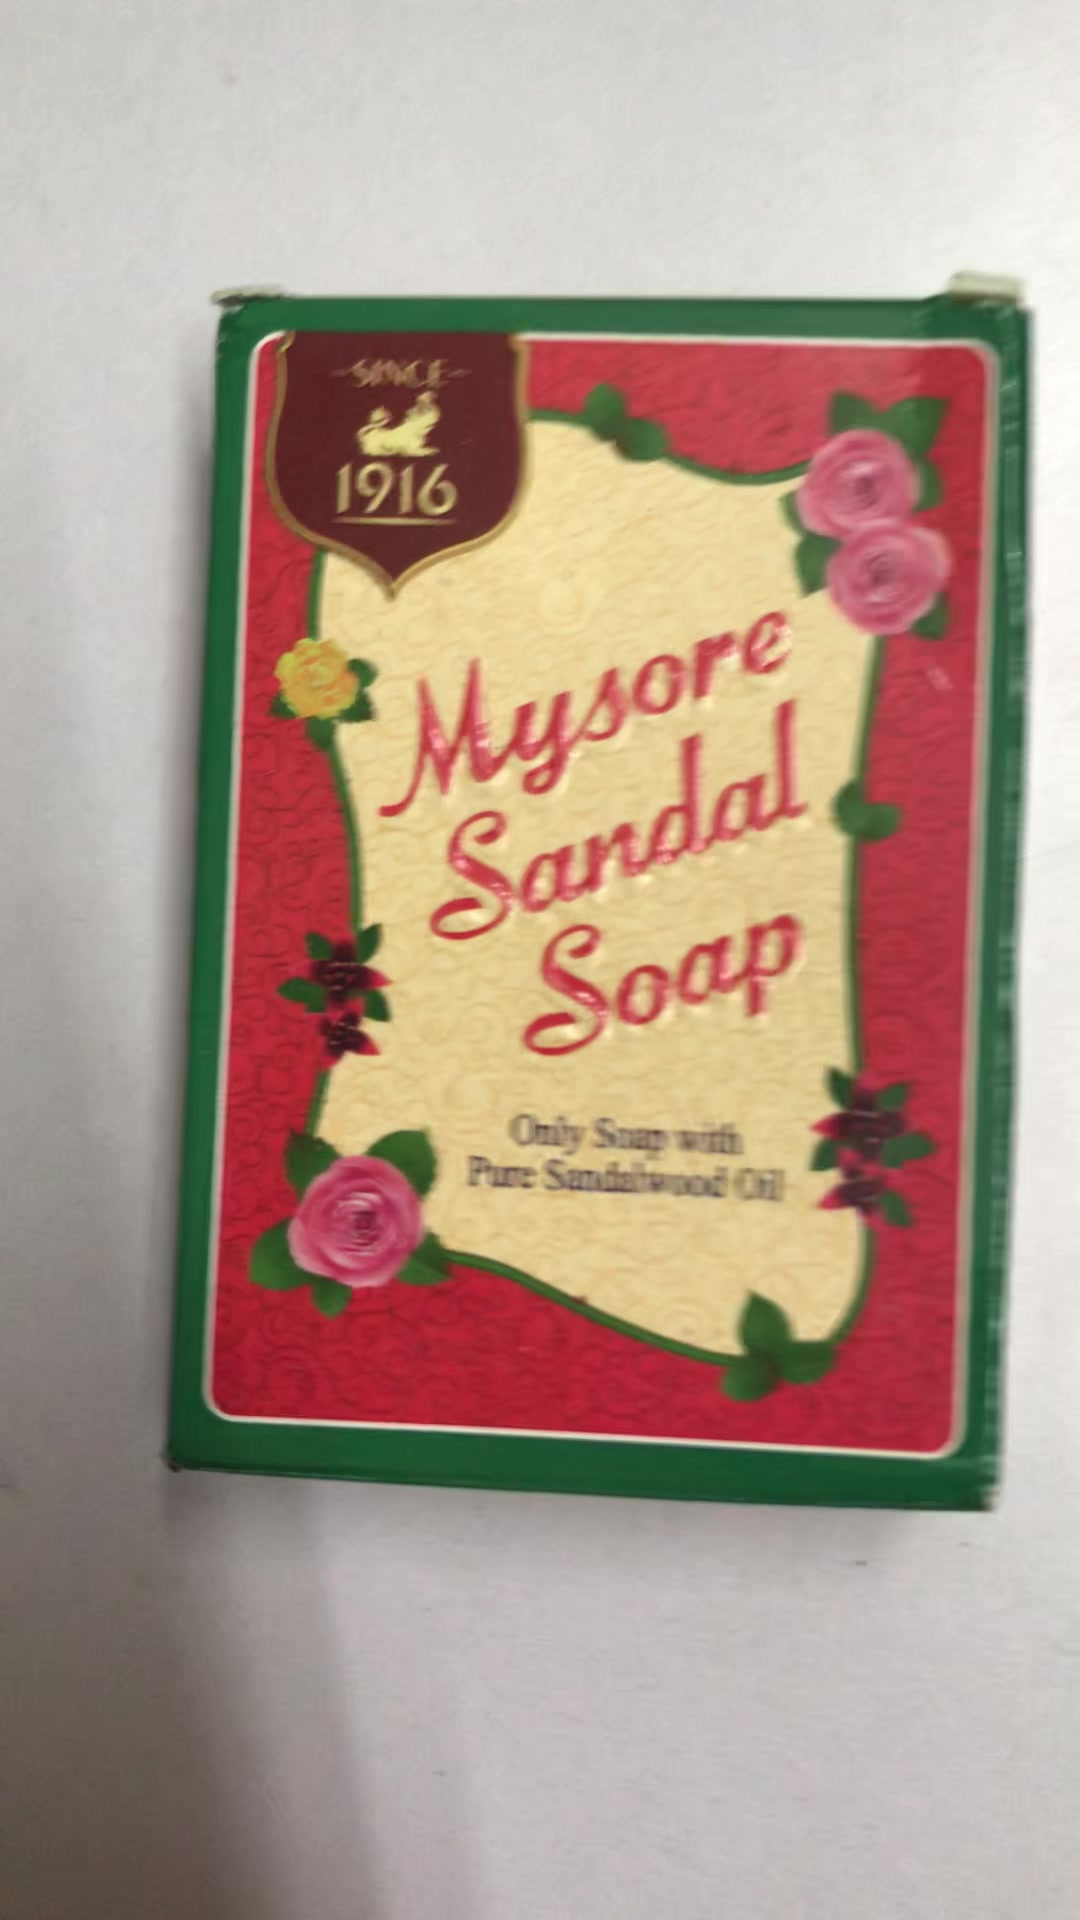mysore sandal soap: (170, 306, 1005, 1513)
